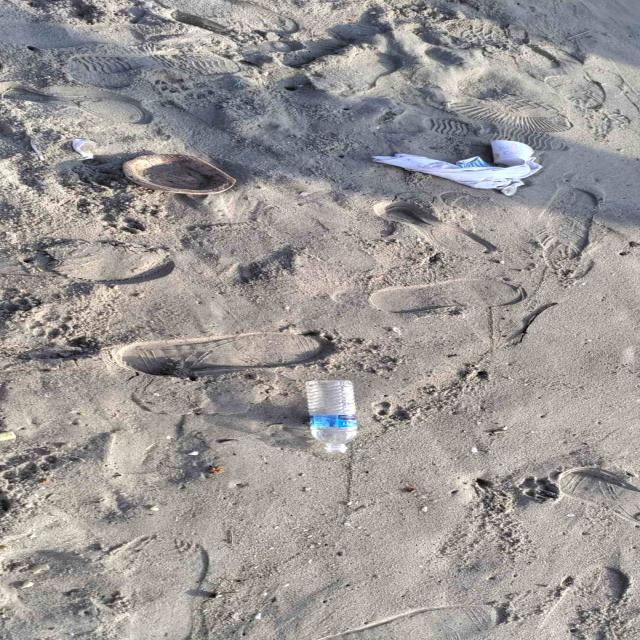chai_nhua_pet: (305, 381, 357, 454)
ly_hop_giay: (490, 139, 534, 166)
rac_huu_co: (121, 154, 234, 194)
vai_vun: (373, 153, 542, 195)
